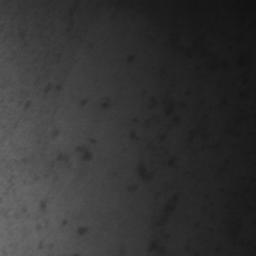Pitted surface: (127, 0, 256, 256), (1, 0, 158, 128), (0, 139, 96, 256), (80, 97, 111, 110), (189, 0, 197, 11), (52, 127, 59, 138), (127, 55, 136, 63), (118, 246, 125, 256)
